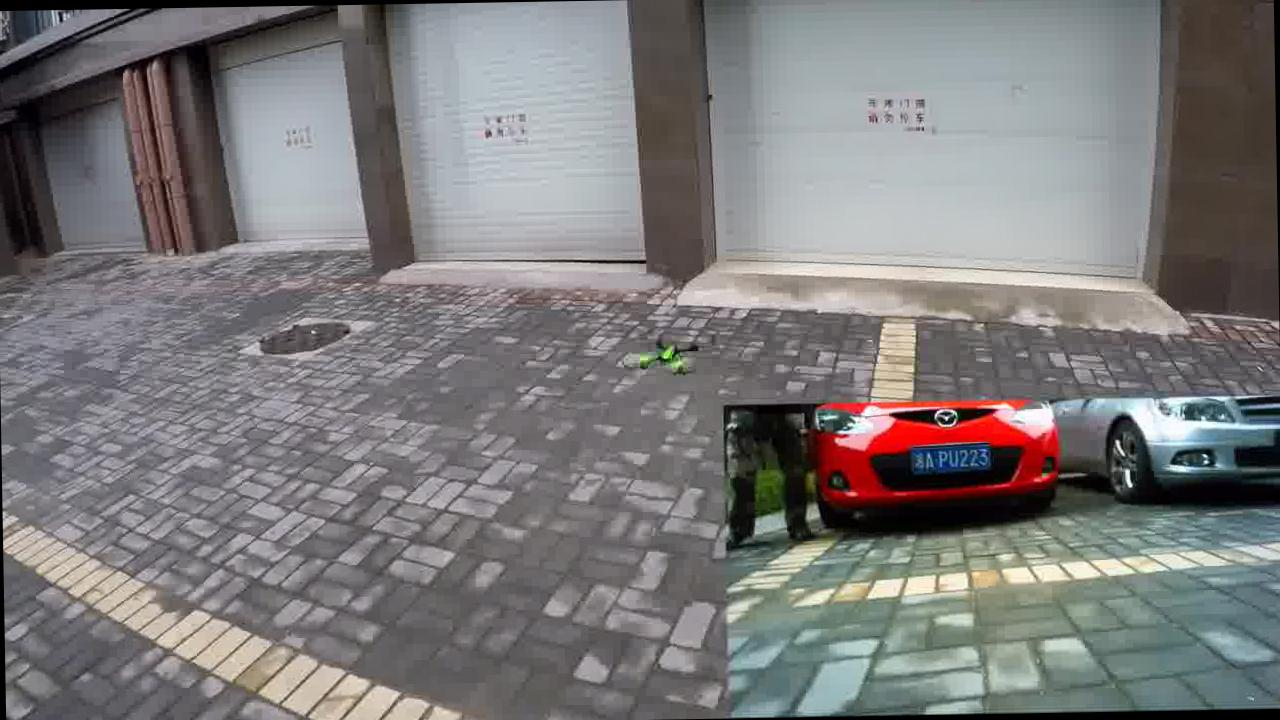drone: (624, 325, 721, 382)
